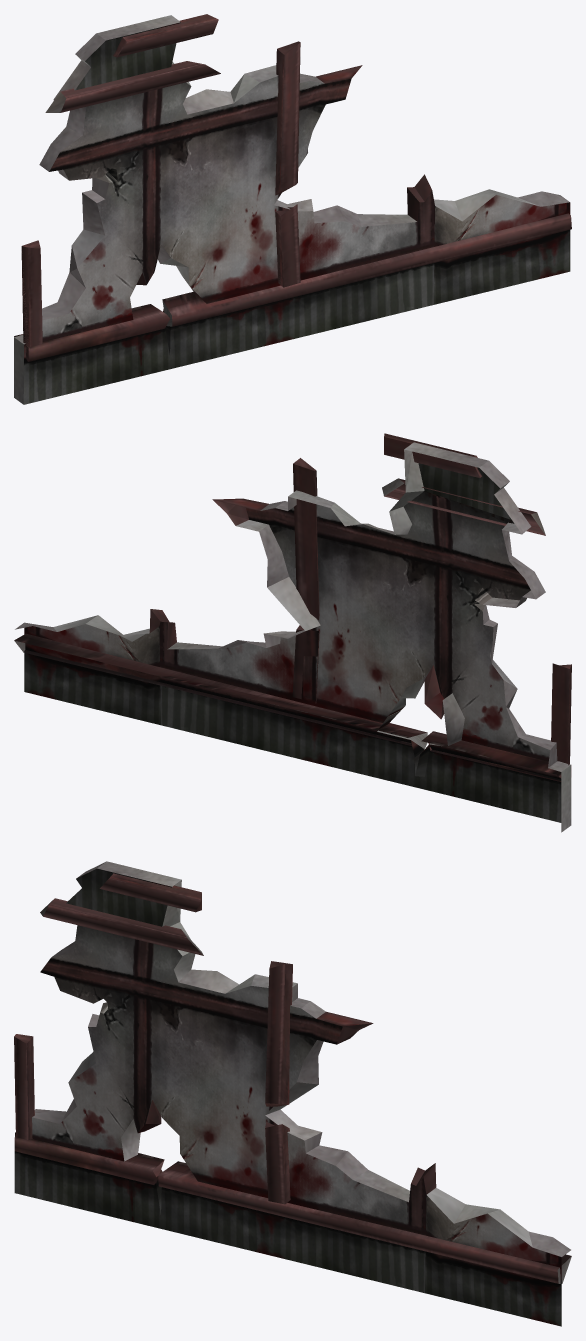
The model's file is STR_WallTempleShortBrokenB.FBX.
3 renders of one model, top to bottom at view 1: azimuth 30°, elevation 25°; view 2: azimuth 150°, elevation 25°; view 3: azimuth 330°, elevation 25°, orthographic.
Visible parts, largest first — view 1: STR_WallTempleShortBrokenB; view 2: STR_WallTempleShortBrokenB; view 3: STR_WallTempleShortBrokenB.
Part boxes in pixels (x1=…): STR_WallTempleShortBrokenB: x1=14, y1=14, x2=571, y2=404; STR_WallTempleShortBrokenB: x1=14, y1=433, x2=571, y2=832; STR_WallTempleShortBrokenB: x1=14, y1=861, x2=571, y2=1326.
Size of the model in its own units: 971 by 584 by 51.2.
